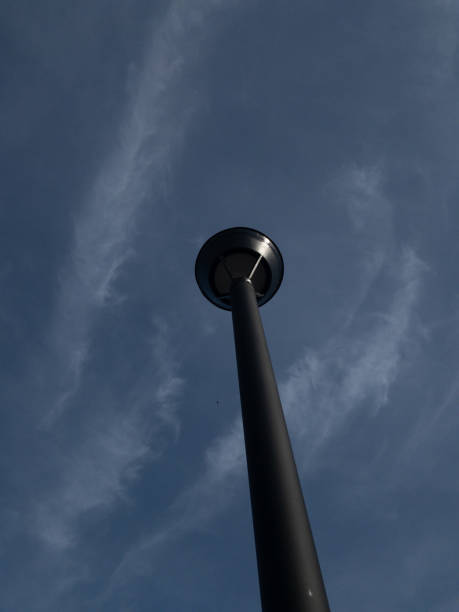light_pole: (211, 295, 336, 612)
